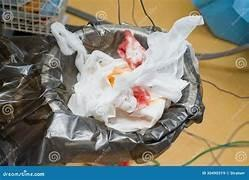cotton: (51, 16, 202, 131)
